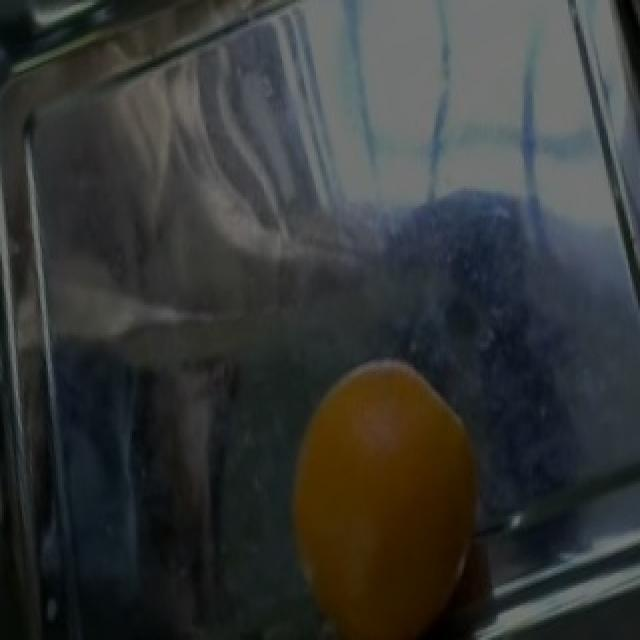Fruit: (278, 342, 492, 640)
